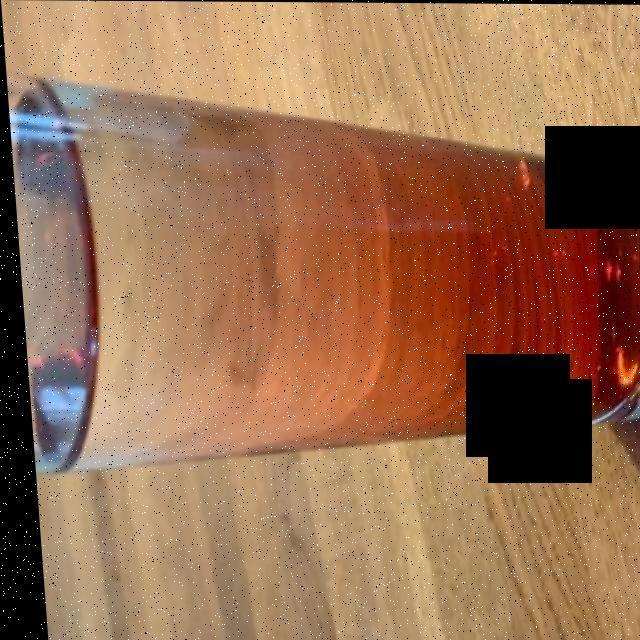drink: (50, 92, 634, 464)
